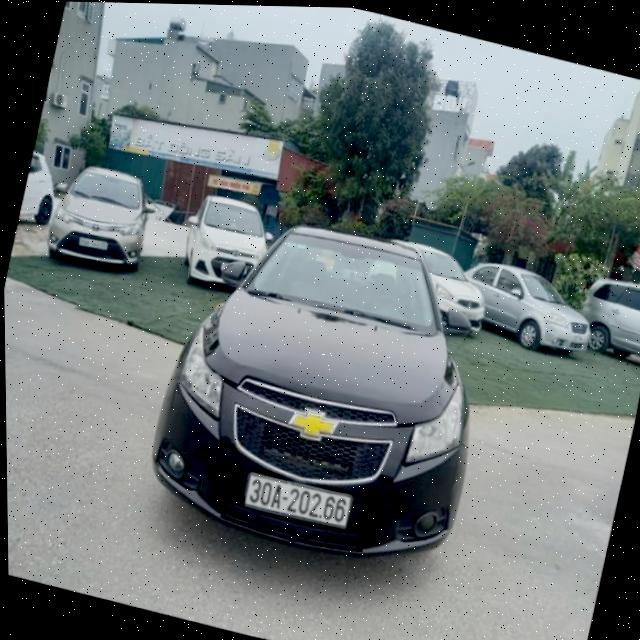car: (135, 190, 509, 593), (454, 252, 604, 363), (41, 155, 161, 282), (384, 234, 499, 345), (176, 187, 277, 297), (571, 268, 640, 372), (15, 139, 64, 234)
plate: (238, 467, 358, 535), (71, 226, 113, 261)
